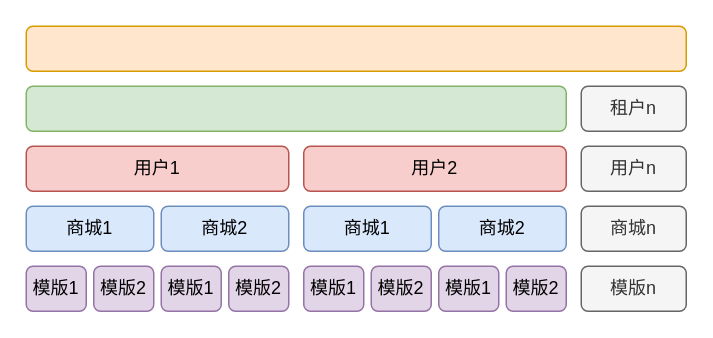
The diagram is 713 pixels wide and 338 high, and some of its shapes have lost their labels. The shapes that lost their labels are listed below. From the top down, each one's centre as x and y in pixels, then its label:
the point at 355,48: 万得工坊
the point at 295,108: 租户1
